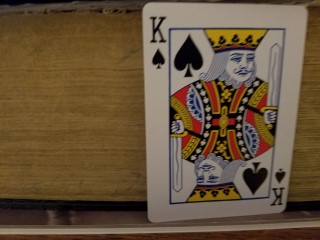KingOfSpades: (141, 2, 308, 223)
